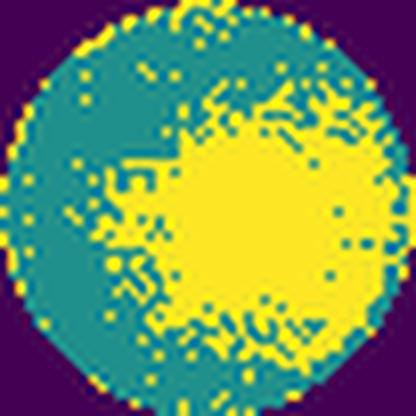Loc: (88, 80, 400, 378)
